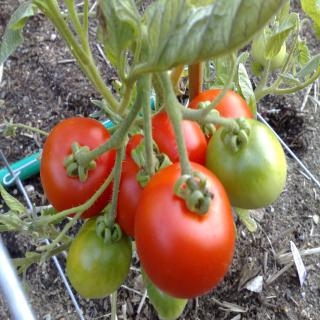tomato: (132, 160, 236, 298), (40, 117, 118, 216), (207, 118, 289, 210), (111, 132, 174, 238), (67, 212, 132, 304), (186, 89, 256, 140), (150, 110, 208, 162)
